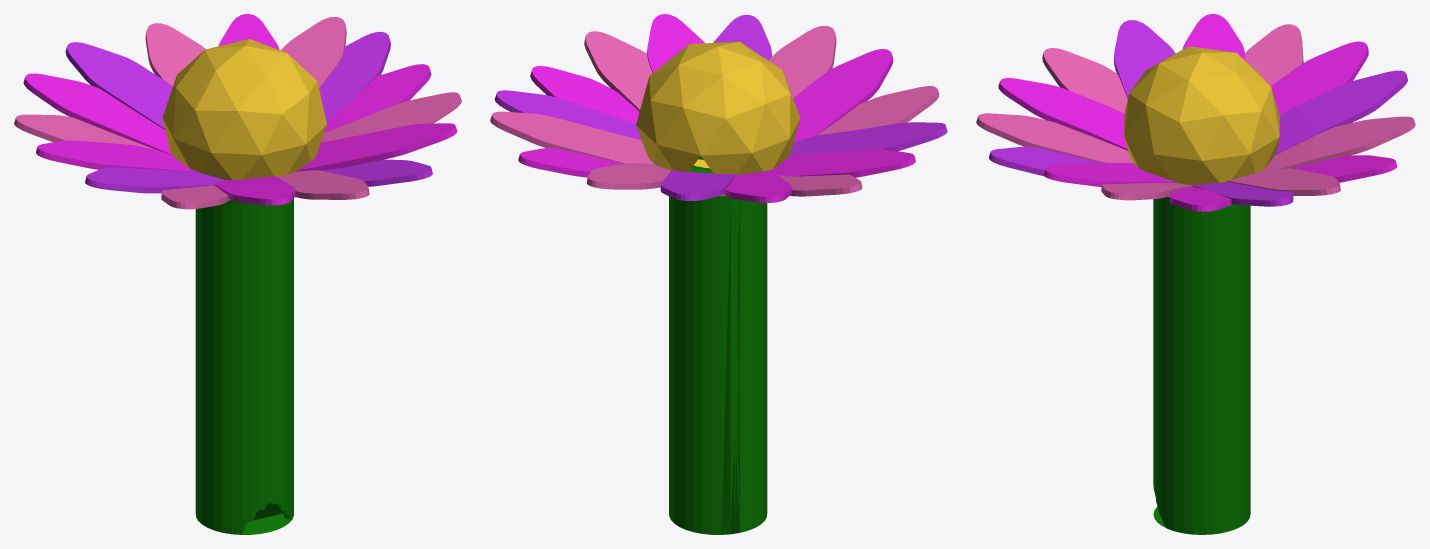
The model's file is Flower.fbx.
The picture shows the model from 3 angles, left to right: view 1: azimuth 30°, elevation 25°; view 2: azimuth 150°, elevation 25°; view 3: azimuth 270°, elevation 25°; orthographic projection.
Visible parts, largest first — view 1: Squelette, Pistile, Petale.009, Petale.008, Petale.003, Petale.015, Petale.010, Petale, Petale.014, Petale.005, Petale.011, Petale.007 (+6 smaller); view 2: Squelette, Pistile, Petale.013, Petale.005, Petale.011, Petale.014, Petale.010, Petale, Petale.004, Petale.012, Petale.015, Petale.007 (+6 smaller); view 3: Squelette, Pistile, Petale.008, Petale.013, Petale.004, Petale.007, Petale.009, Petale.012, Petale.011, Petale.001, Petale.003, Petale.005 (+6 smaller).
Part boxes in pixels (x1=…): Squelette: x1=195, y1=198, x2=293, y2=534; Pistile: x1=162, y1=39, x2=326, y2=179; Petale.009: x1=23, y1=73, x2=171, y2=154; Petale.008: x1=65, y1=42, x2=172, y2=129; Petale.003: x1=296, y1=123, x2=457, y2=171; Petale.015: x1=319, y1=32, x2=390, y2=123; Petale.010: x1=36, y1=140, x2=192, y2=170; Petale: x1=324, y1=64, x2=431, y2=132; Petale.014: x1=321, y1=92, x2=461, y2=142; Petale.005: x1=281, y1=16, x2=346, y2=88; Petale.011: x1=85, y1=167, x2=224, y2=193; Petale.007: x1=145, y1=23, x2=205, y2=85; Squelette: x1=669, y1=156, x2=767, y2=534; Pistile: x1=636, y1=41, x2=800, y2=196; Petale.013: x1=793, y1=49, x2=893, y2=141; Petale.005: x1=490, y1=111, x2=654, y2=164; Petale.011: x1=789, y1=122, x2=947, y2=156; Petale.014: x1=584, y1=31, x2=652, y2=111; Petale.010: x1=771, y1=149, x2=915, y2=177; Petale: x1=530, y1=66, x2=639, y2=123; Petale.004: x1=768, y1=25, x2=836, y2=97; Petale.012: x1=817, y1=86, x2=939, y2=135; Petale.015: x1=494, y1=90, x2=641, y2=140; Petale.007: x1=587, y1=163, x2=670, y2=189; Squelette: x1=1153, y1=197, x2=1250, y2=534; Pistile: x1=1124, y1=46, x2=1279, y2=197; Petale.008: x1=1275, y1=70, x2=1407, y2=155; Petale.013: x1=998, y1=78, x2=1128, y2=150; Petale.004: x1=976, y1=113, x2=1133, y2=162; Petale.007: x1=1265, y1=116, x2=1415, y2=169; Petale.009: x1=1271, y1=41, x2=1368, y2=114; Petale.012: x1=1042, y1=48, x2=1127, y2=113; Petale.011: x1=1114, y1=20, x2=1175, y2=98; Petale.001: x1=1245, y1=24, x2=1303, y2=86; Petale.003: x1=1044, y1=162, x2=1176, y2=186; Petale.005: x1=1227, y1=168, x2=1340, y2=195.
Size of the model in its own units: 231 by 232 by 268.
